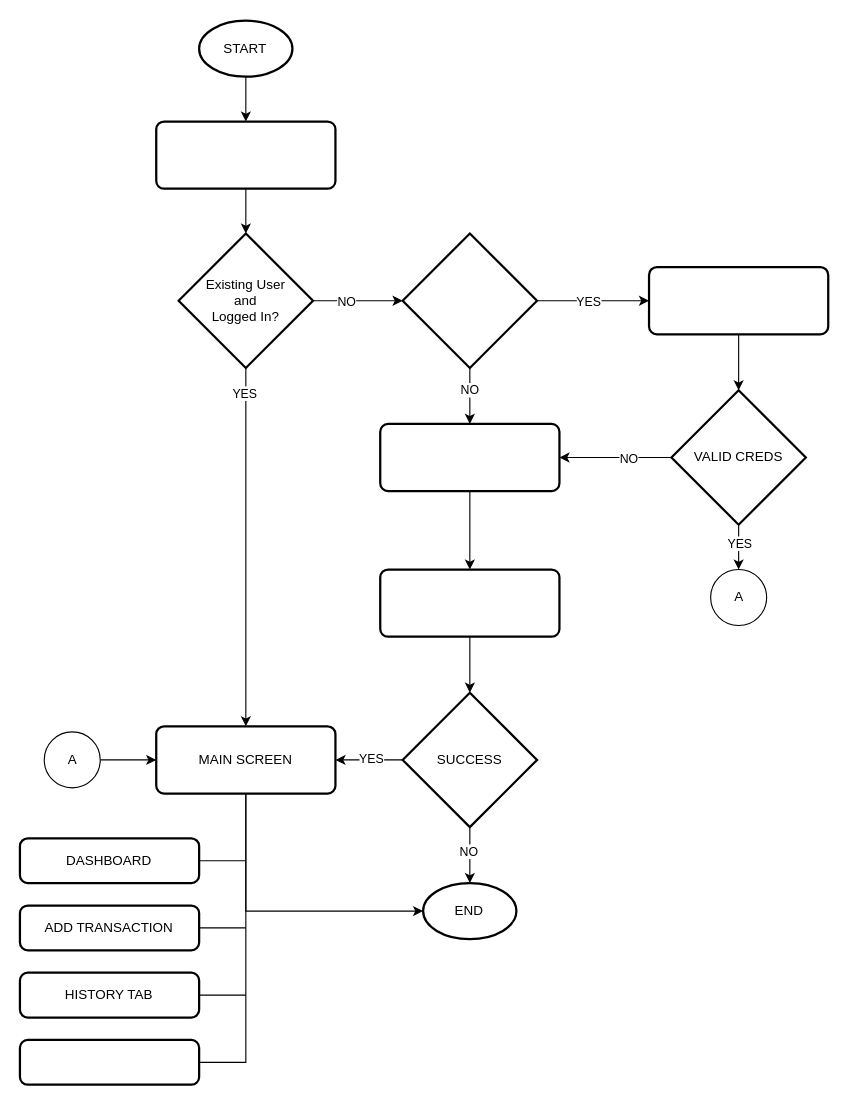
This 849x1104 diagram has some shape labels left out. The shapes that lost their labels are listed below. From the top down, each one's box as (x1, y1, x2, y2) in pixels, then its label:
(155, 120, 336, 189): APP LAUNCH
(401, 232, 538, 368): LOGIN
(647, 265, 829, 335): ENTER CREDENTIALS
(379, 422, 560, 492): REGISTER SCREEN
(379, 568, 560, 637): REGISTRATION DETAILS
(18, 1038, 200, 1085): SUMMARY
